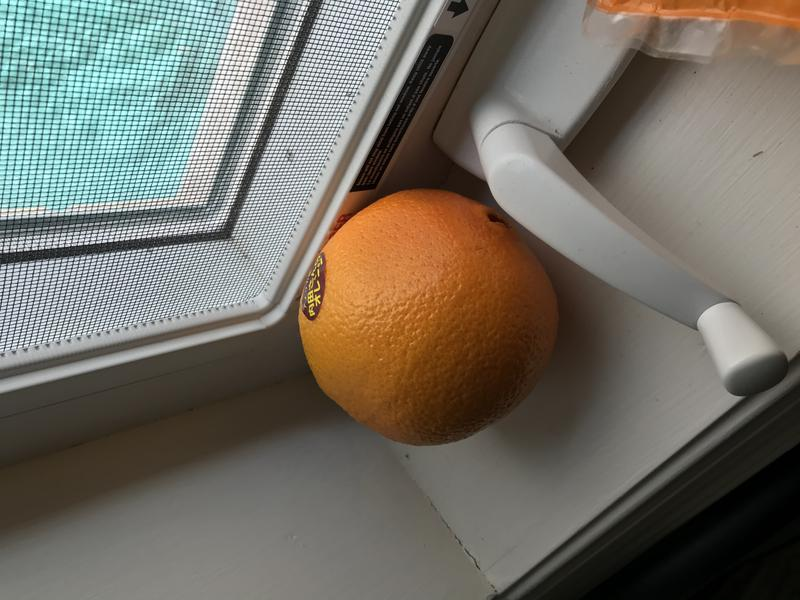orange: (284, 182, 569, 457)
